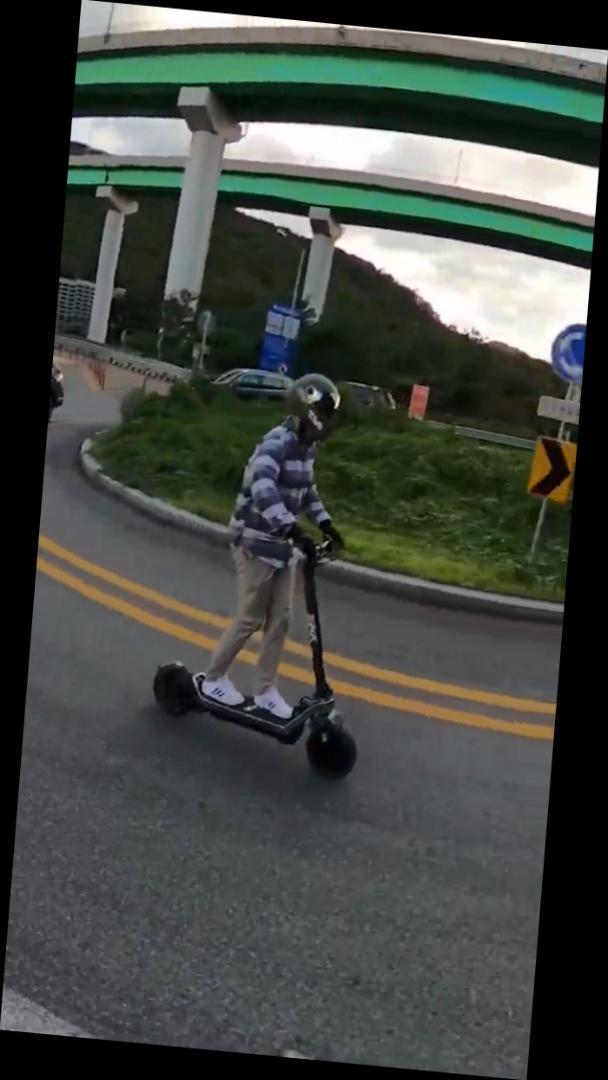helmet: (148, 356, 388, 784)
